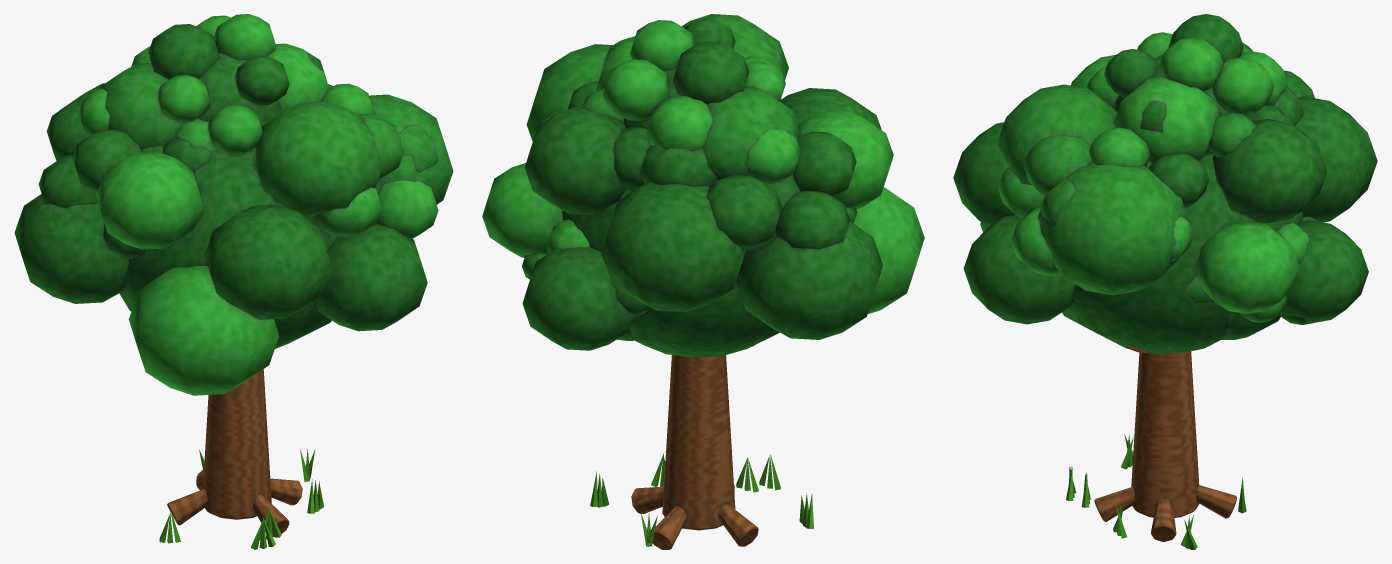
The model's file is yuzu_tree.glb.
3 views of the same model, side by side, from view 1: azimuth 30°, elevation 25°; view 2: azimuth 150°, elevation 25°; view 3: azimuth 270°, elevation 25° (orthographic). The views are drawn at different scales.
Visible parts, largest first — view 1: crown, yuzu_tree; view 2: crown, yuzu_tree; view 3: crown, yuzu_tree.
Part boxes in pixels (bbox=[...]): crown: bbox=[14, 14, 453, 395]; yuzu_tree: bbox=[159, 369, 323, 549]; crown: bbox=[482, 14, 924, 357]; yuzu_tree: bbox=[590, 345, 813, 549]; crown: bbox=[953, 14, 1377, 353]; yuzu_tree: bbox=[1066, 346, 1246, 549].
Bounding box in the file's own units: 1.11 × 1.37 × 1.09.
1 material, 1 textured.
